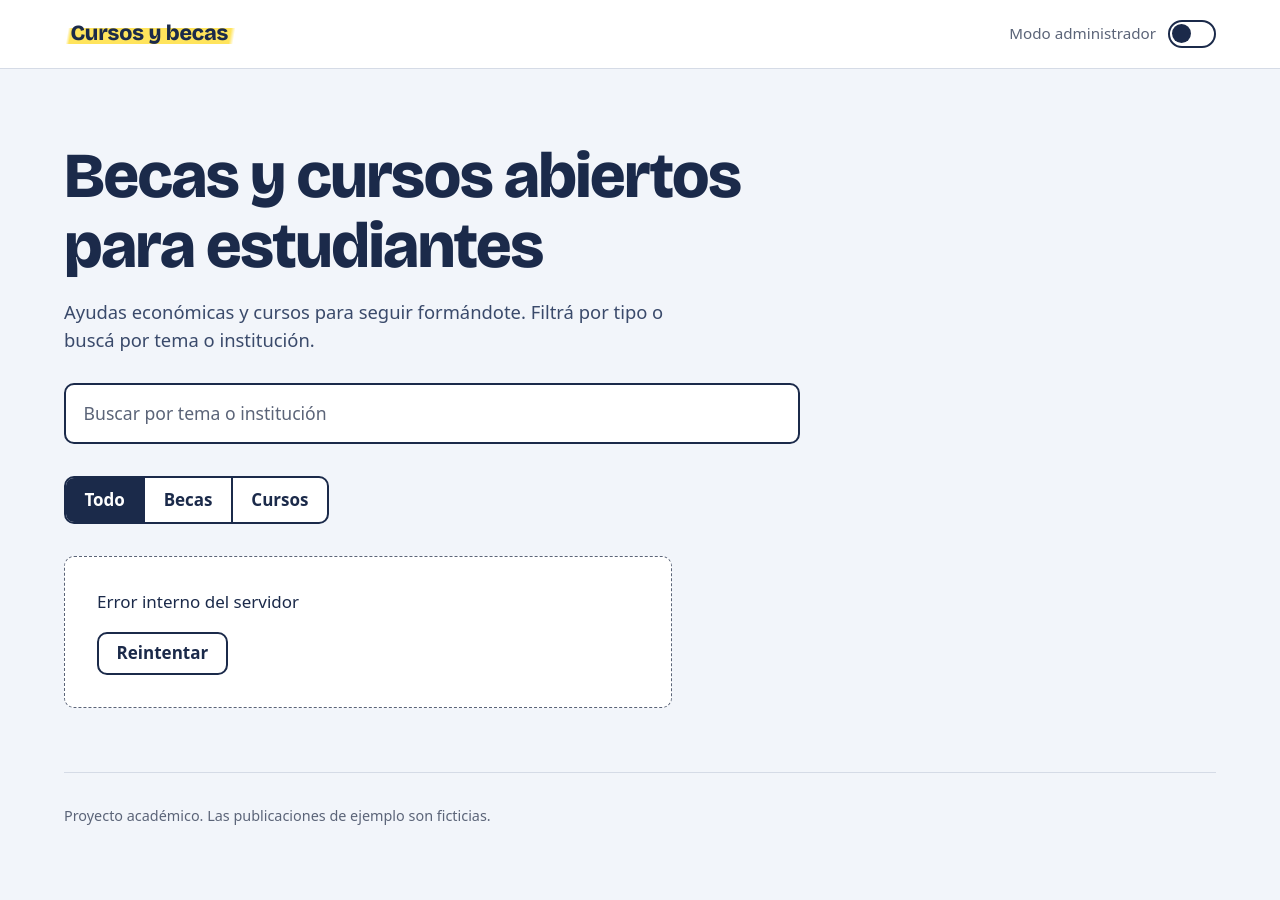
Galería › muestra el error y permite reintentar si la API no responde
Expected: the text "Error interno del servidor" is shown, [97,589,299,616]
What coordinates should you click on to do the following:
click the button "Reintentar"
I would click on:
 (162, 654)
Its box is [97,632,228,675].
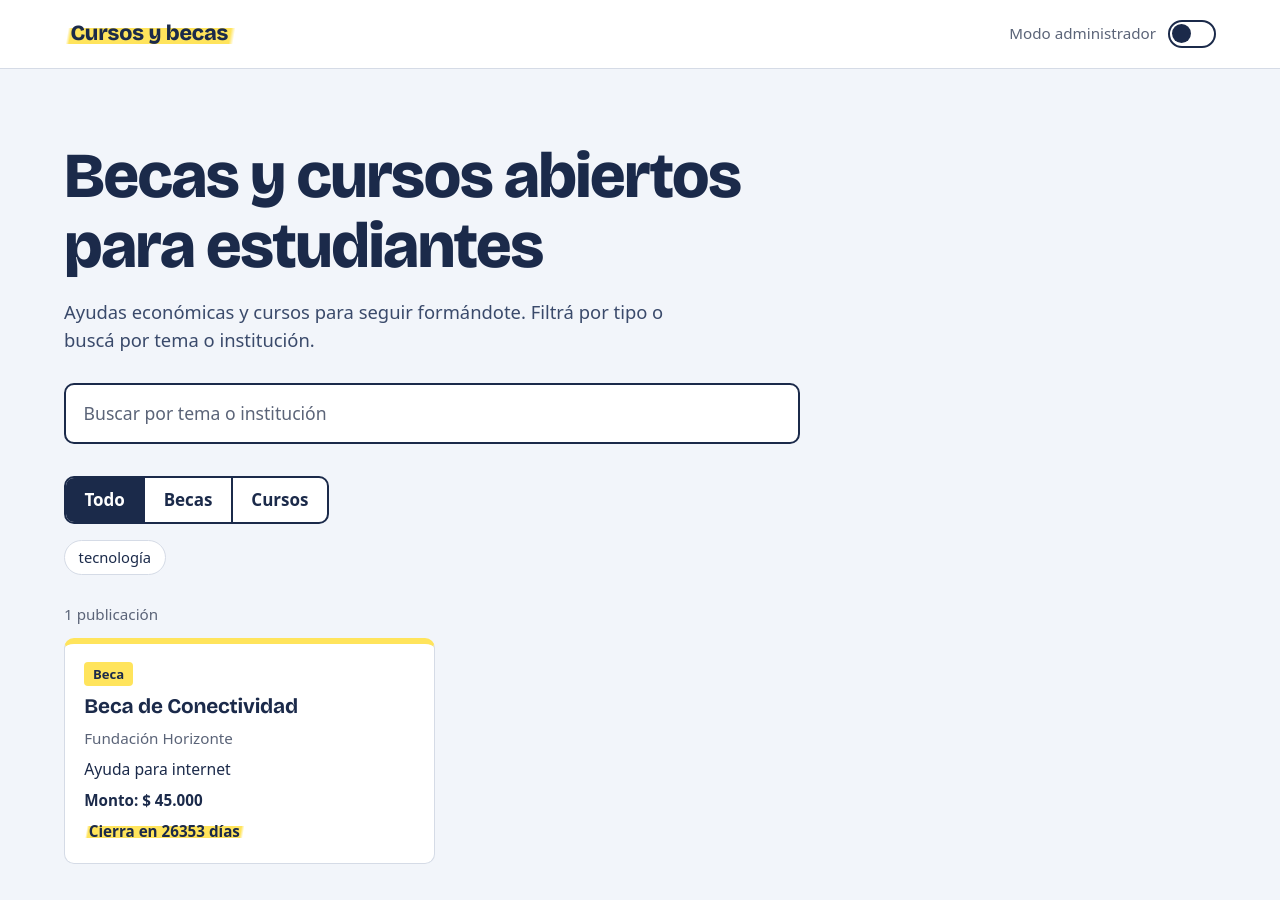
Result: the link "Beca de Conectividad" is shown at [84,694,298,720]
